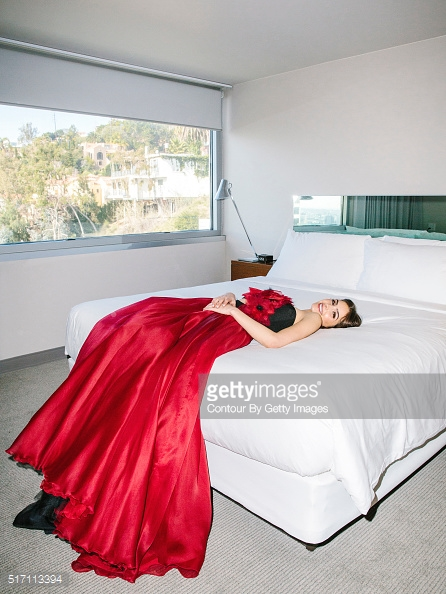deitado: (0, 256, 429, 564)
